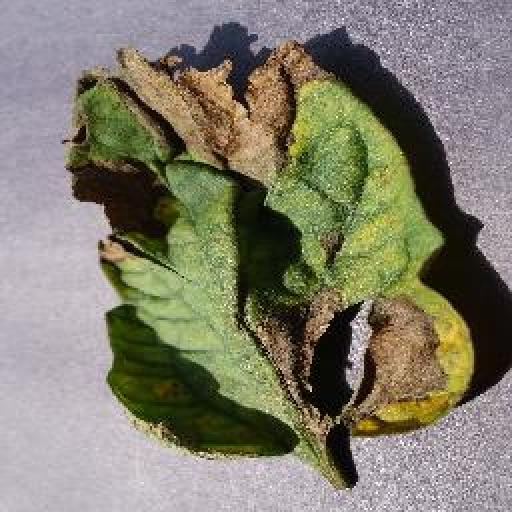disease_tomato: (65, 40, 476, 465)
